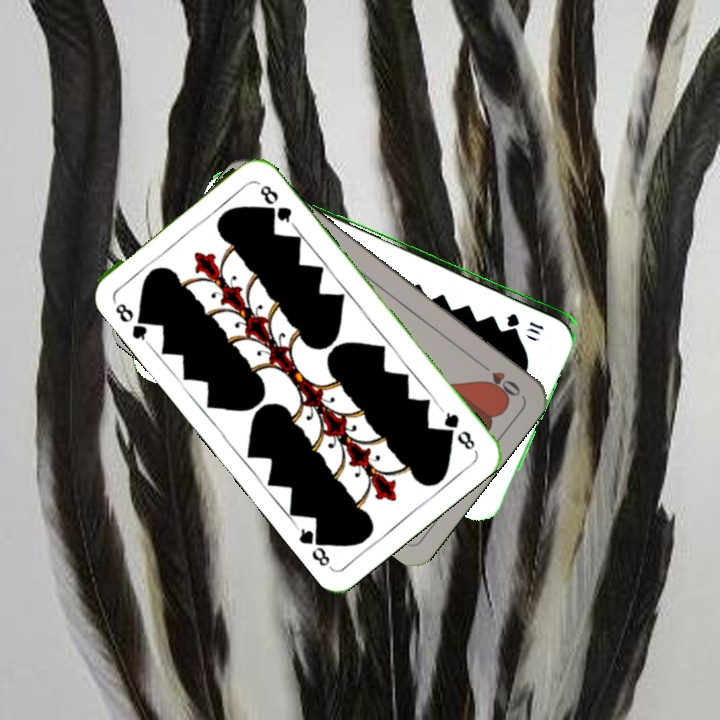G10: (503, 309, 547, 338)
G8: (436, 404, 478, 453), (111, 299, 154, 346)
HO: (473, 357, 524, 401)
